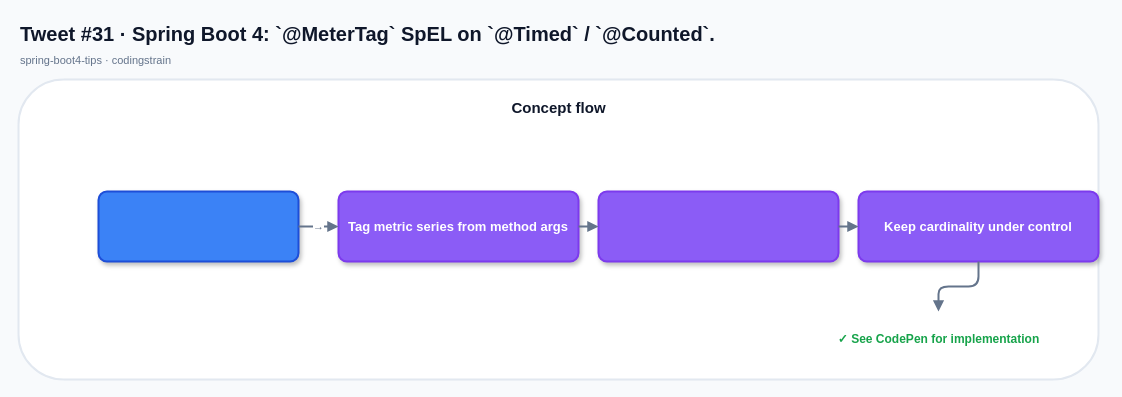
Image size: 1122x397. Some labels were removed from this diagram. Each missing label, with the centre of its shape:
"Auto-config wires a SpEL `ValueExpressionResolver`" belongs at point 719,227.
"Problem / context" belongs at point 199,227.
